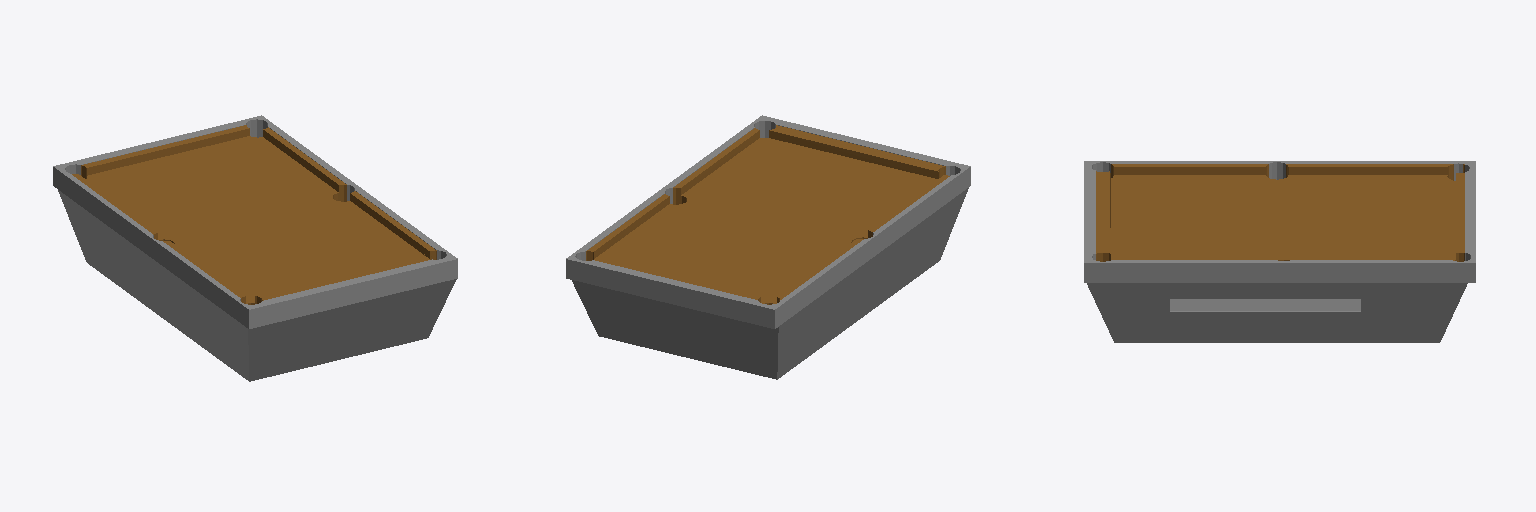
File: pooltableModel.obj
3 renders of one model, left to right at view 1: azimuth 30°, elevation 25°; view 2: azimuth 150°, elevation 25°; view 3: azimuth 270°, elevation 25°, orthographic.
Visible parts, largest first — view 1: Box03, Pyramid01, Box02; view 2: Box03, Pyramid01, Box02; view 3: Box03, Pyramid01, Box02, Plane01.
Part boxes in pixels (x1,y1,x2,y2): Box03: (72, 125, 436, 304); Pyramid01: (58, 190, 456, 381); Box02: (53, 115, 457, 328); Box03: (586, 125, 949, 304); Pyramid01: (572, 188, 968, 379); Box02: (566, 115, 970, 328); Box03: (1096, 164, 1464, 261); Pyramid01: (1087, 283, 1467, 342); Box02: (1084, 161, 1475, 282); Plane01: (1170, 299, 1360, 310).
Size of the model in its own units: 65.66 by 26.01 by 106.